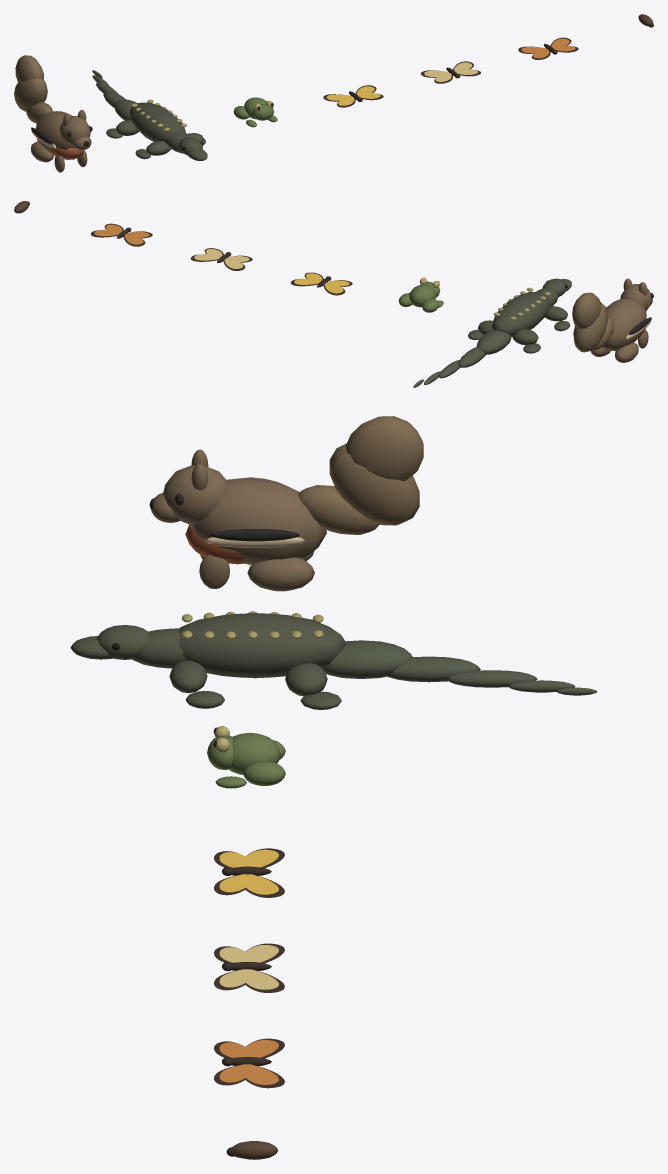
Rendered from forest-wildlife.glb.
3 renders of one model, top to bottom at view 1: azimuth 30°, elevation 25°; view 2: azimuth 150°, elevation 25°; view 3: azimuth 270°, elevation 25°, orthographic. The views are drawn at different scales.
Visible parts, largest first — view 1: Part (×7); view 2: Part (×5); view 3: Part (×6).
Part boxes in pixels (x1,y1,x2,y2): Part (×7): [14, 55, 277, 172]; Part (×5): [398, 278, 652, 387]; Part (×6): [70, 416, 597, 788].
Bounding box in the file's own units: 6.57 × 0.8999 × 2.46.
